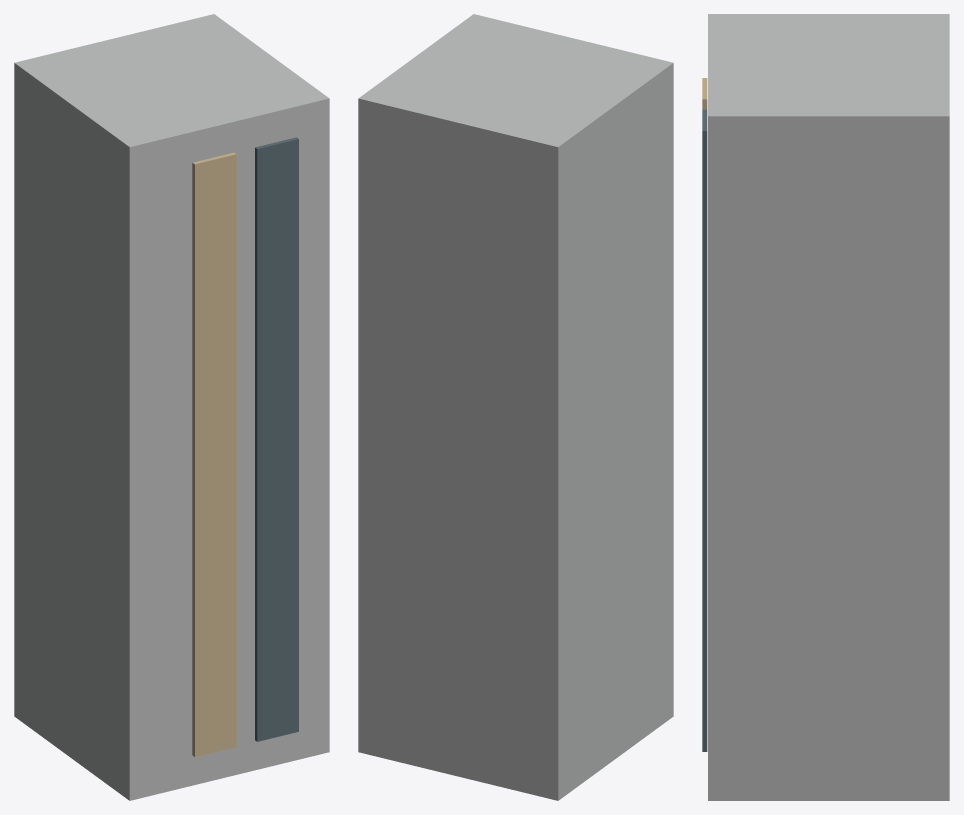
File: bathroom-light-tower.glb
3 renders of one model, left to right at view 1: azimuth 30°, elevation 25°; view 2: azimuth 150°, elevation 25°; view 3: azimuth 270°, elevation 25°, orthographic. The views are drawn at different scales.
Visible parts, largest first — view 1: geometry_0, geometry_1, geometry_2; view 2: geometry_0; view 3: geometry_0, geometry_2.
Part boxes in pixels (left/top/right/bottom): geometry_0: left=14, top=14, right=329, bottom=800; geometry_1: left=192, top=152, right=236, bottom=756; geometry_2: left=255, top=137, right=298, bottom=741; geometry_0: left=358, top=14, right=673, bottom=800; geometry_0: left=708, top=14, right=949, bottom=800; geometry_2: left=702, top=109, right=707, bottom=751.
Bounding box in the file's own units: 2.4 × 7.5 × 2.46.
